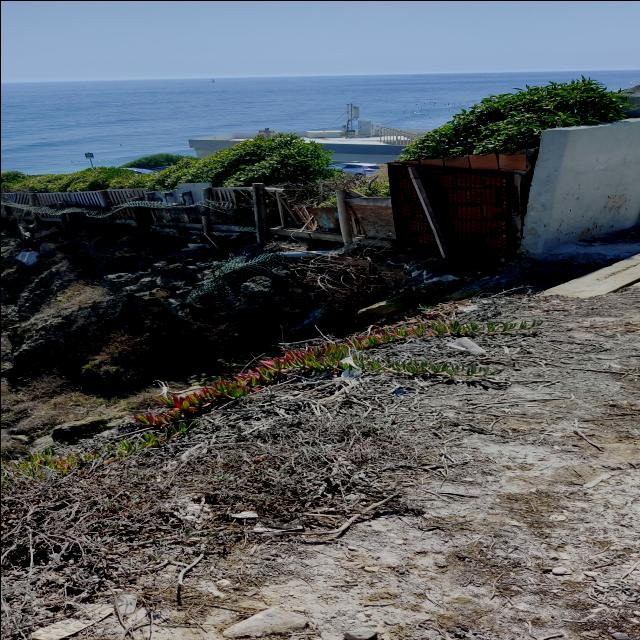Aluminium blister pack: (26, 605, 114, 640)
Disposable plastic cup: (444, 336, 485, 353)
Metal bottle cap: (392, 388, 404, 393)
Unlabeled litter: (102, 587, 136, 612), (334, 356, 361, 379), (251, 521, 302, 531)
